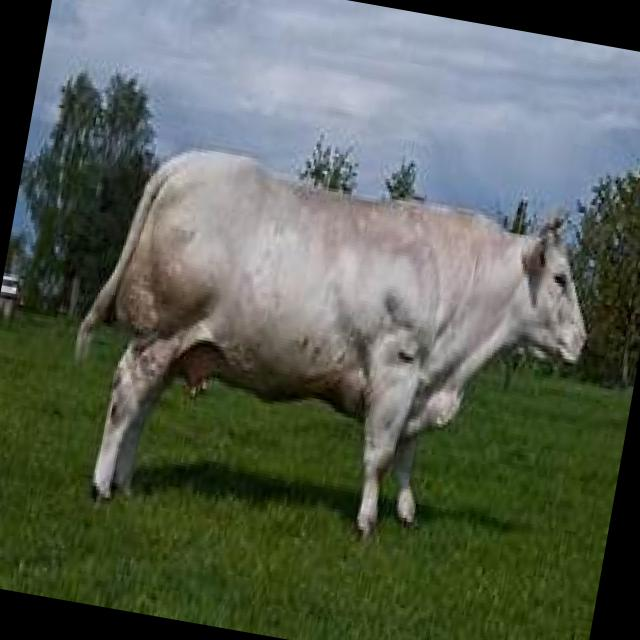cow: (48, 127, 610, 581)
